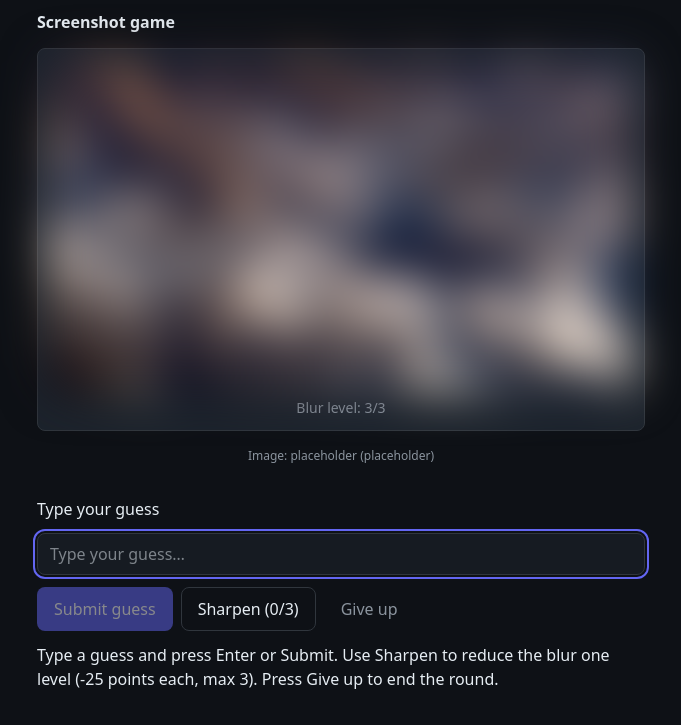
Test: ScreenshotGame — correct guess › accepts the correct target and records a solved result
The width and height of the screenshot is (681, 725).
Type "Mountain" into the text box labelled "Type your guess" at (341, 554), box [37,533,645,575]
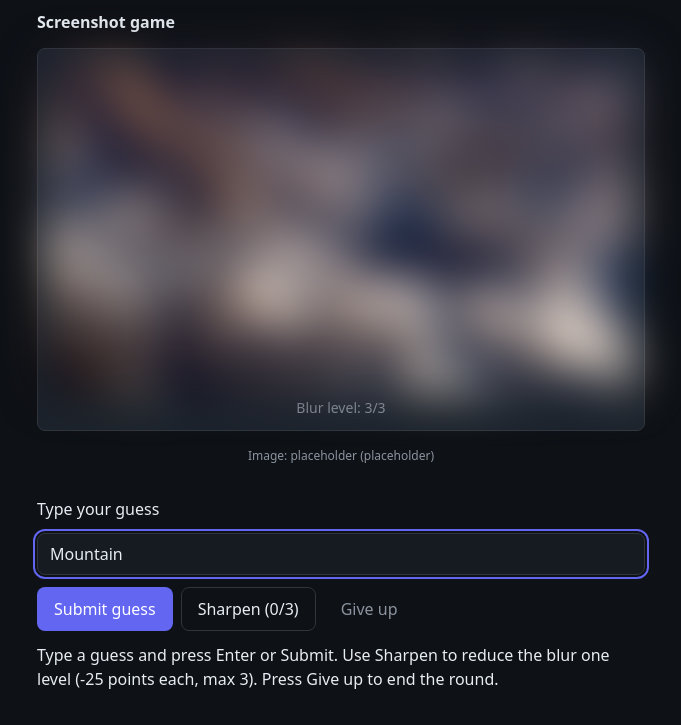
Click the button "Submit guess" at (105, 609), box [37,587,173,631]
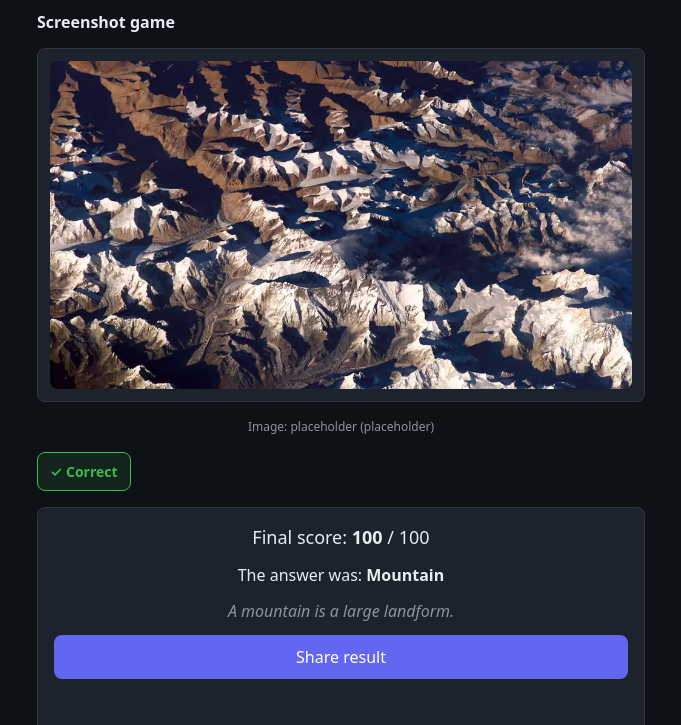
Result: the text "100" is shown at [352,525,383,549]
Result: the text "Mountain" is shown at [366,564,444,586]
